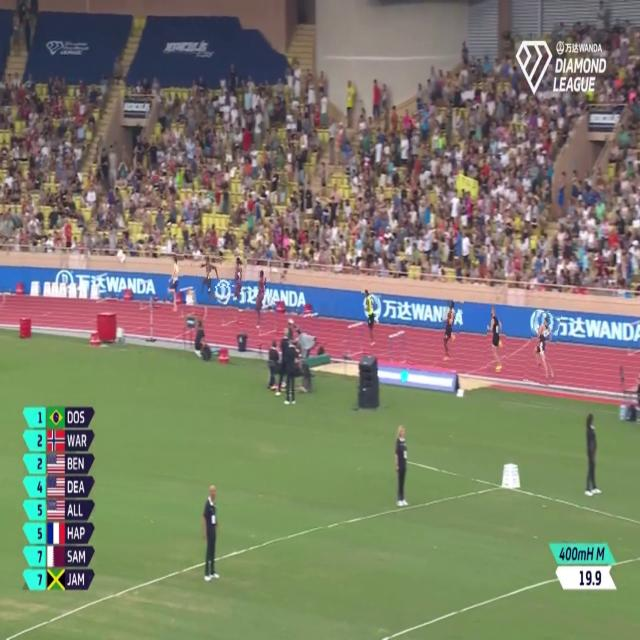athlete: (526, 312, 558, 386), (439, 294, 463, 369), (194, 254, 221, 303), (362, 282, 381, 349), (487, 306, 506, 372), (166, 252, 183, 319), (253, 268, 269, 336), (232, 254, 246, 309)
hurdle: (216, 286, 239, 332), (387, 325, 410, 367), (255, 298, 276, 338), (346, 318, 366, 356), (302, 311, 322, 341), (180, 285, 196, 315)
